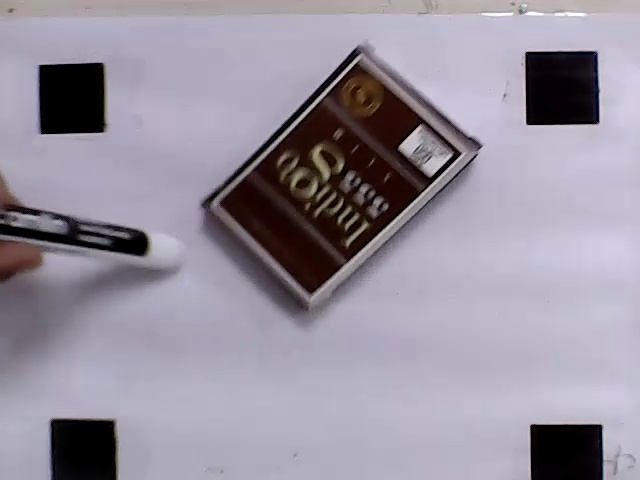BEX: (213, 56, 467, 298)
